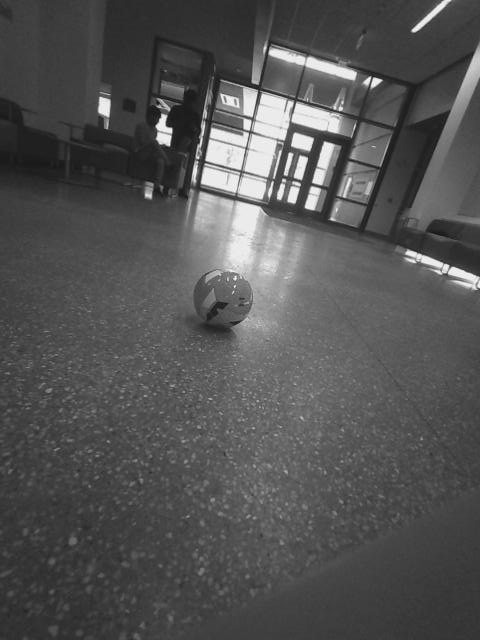ball: (187, 262, 260, 336)
